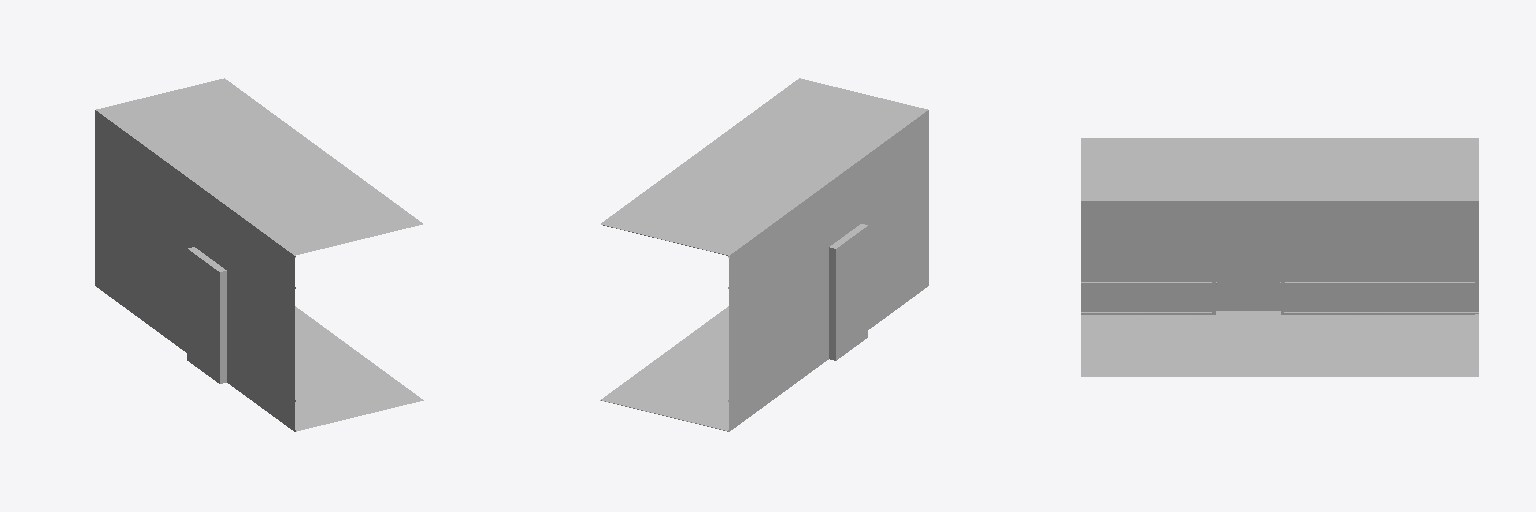
The model's file is wall_04_lft.obj.
3 views of the same model, side by side, from view 1: azimuth 30°, elevation 25°; view 2: azimuth 150°, elevation 25°; view 3: azimuth 270°, elevation 25° (orthographic).
Visible parts, largest first — view 1: wall_04_lft; view 2: wall_04_lft; view 3: wall_04_lft.
Boxes of the visible parts, box(x1,y1,x2,y2) form: wall_04_lft: box(95, 78, 423, 431); wall_04_lft: box(600, 78, 928, 431); wall_04_lft: box(1081, 138, 1478, 376).
Bounding box in the file's own units: 193 × 238 × 488.